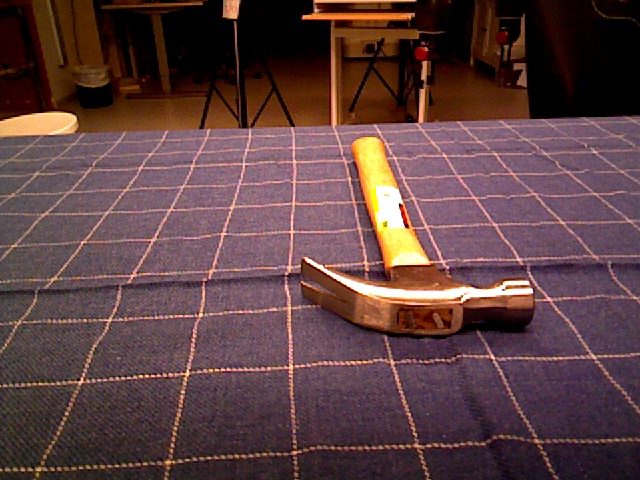hammer1: (300, 136, 536, 339)
